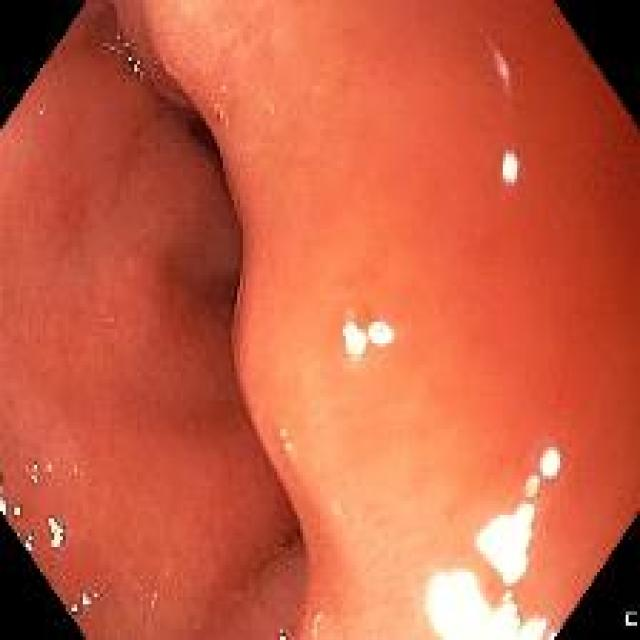bubbles: (104, 28, 148, 84), (216, 80, 235, 109), (33, 101, 51, 123), (213, 106, 228, 126), (271, 537, 284, 560), (263, 100, 277, 116)
saturation: (393, 538, 580, 637)
specularity: (424, 566, 555, 639), (470, 500, 546, 587), (338, 312, 393, 360), (61, 588, 102, 618), (45, 512, 70, 553), (539, 444, 561, 482), (499, 150, 520, 189), (25, 462, 54, 486), (12, 530, 36, 553), (522, 474, 539, 499), (0, 473, 7, 518), (12, 500, 24, 519), (131, 63, 144, 80), (274, 626, 288, 639), (217, 109, 223, 117), (128, 55, 133, 62)
